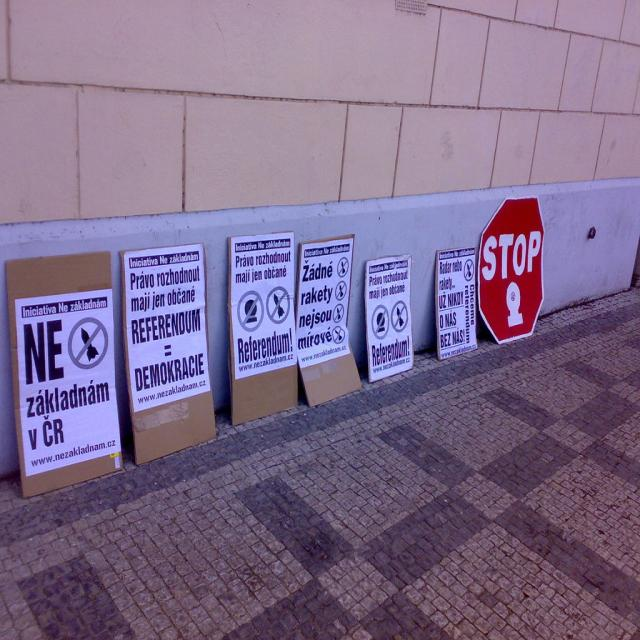Stop-sign: (477, 195, 544, 346)
